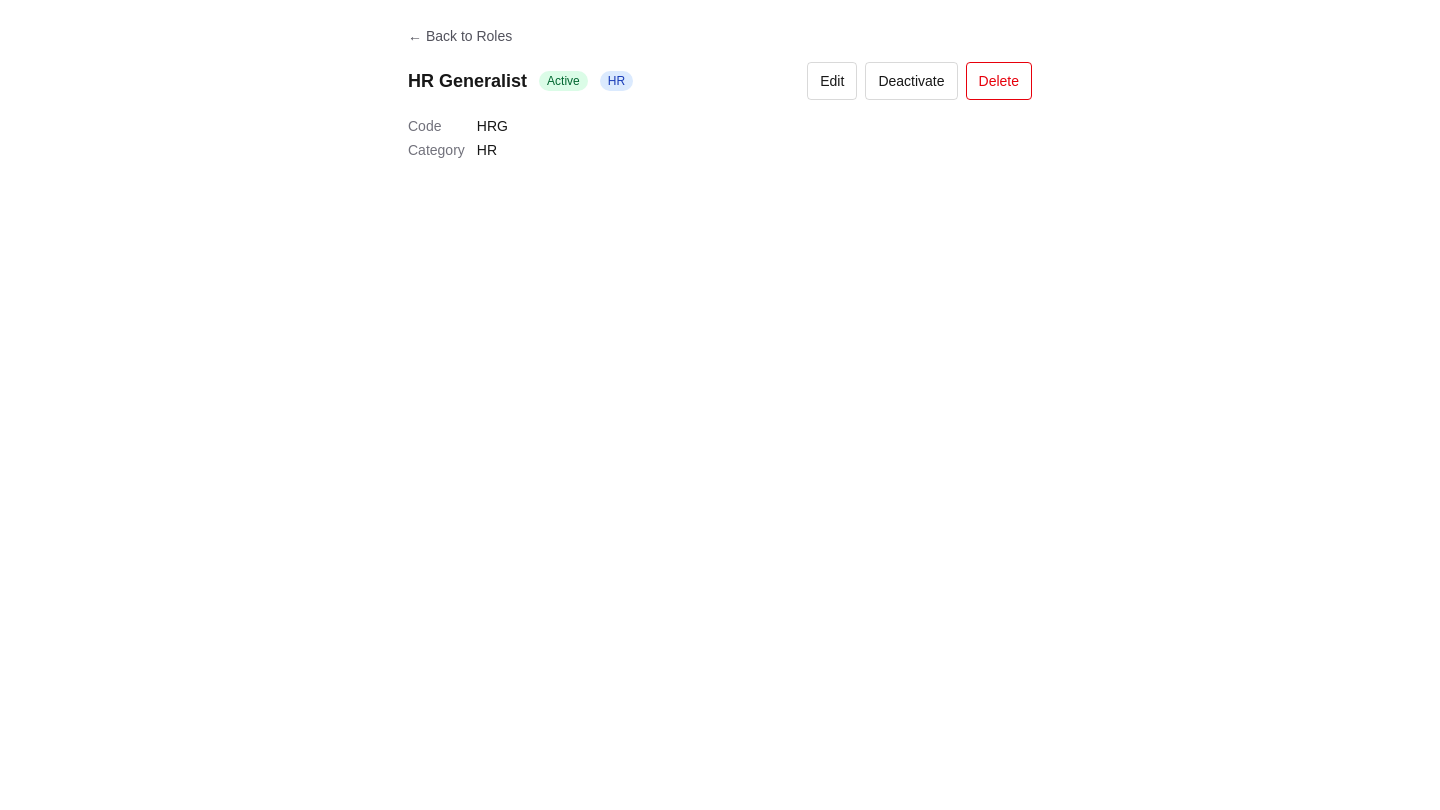
RoleDetailPage › UT11: shows an inline DUPLICATE_CODE error and leaves the role unchanged
expect the heading "HR Generalist" is shown: met, box [408,67,527,95]
Click the button "Edit".
click(832, 81)  # box [807,62,857,100]
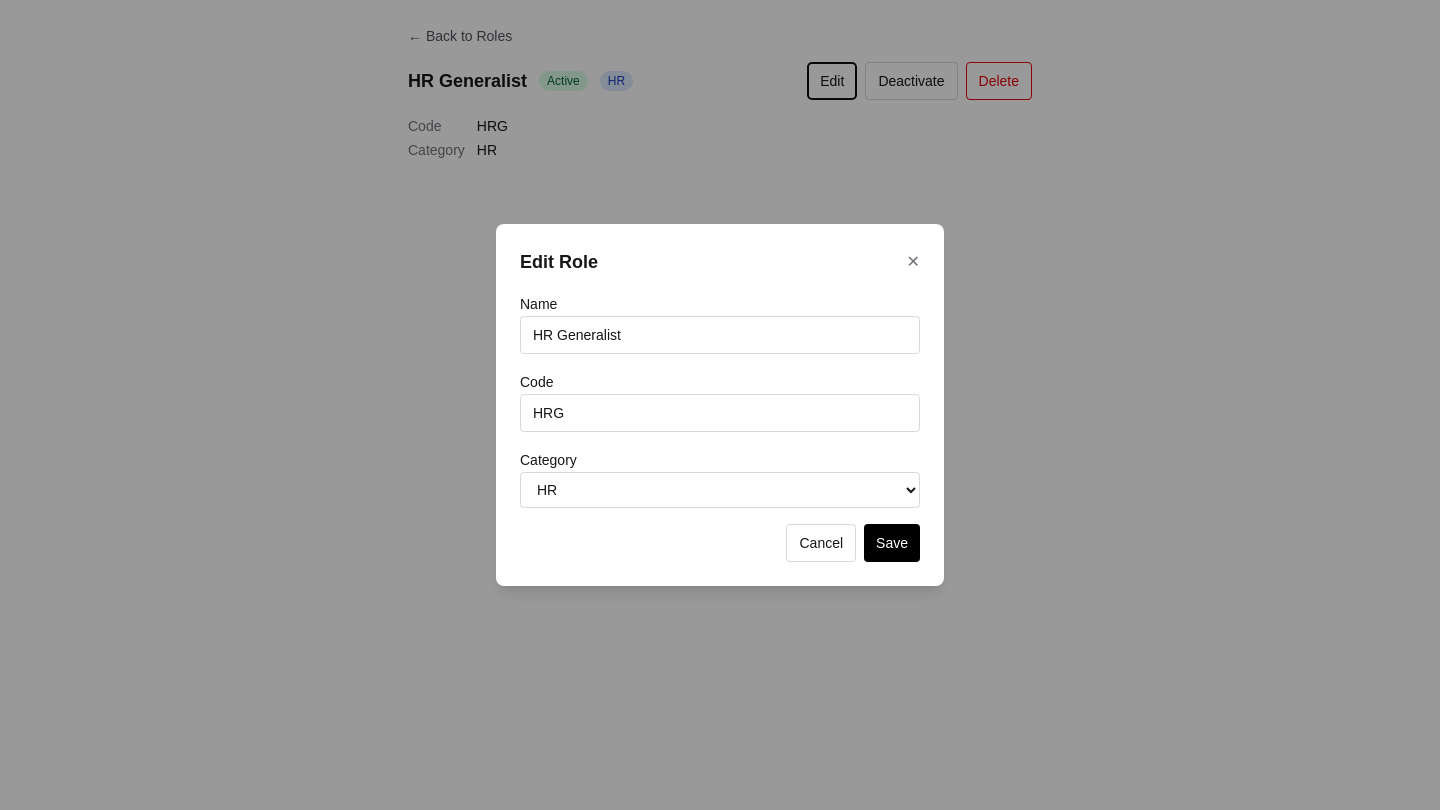
Replace the text in the field labelled "Code" with "TAKEN" at (720, 413), box [520,394,920,432]
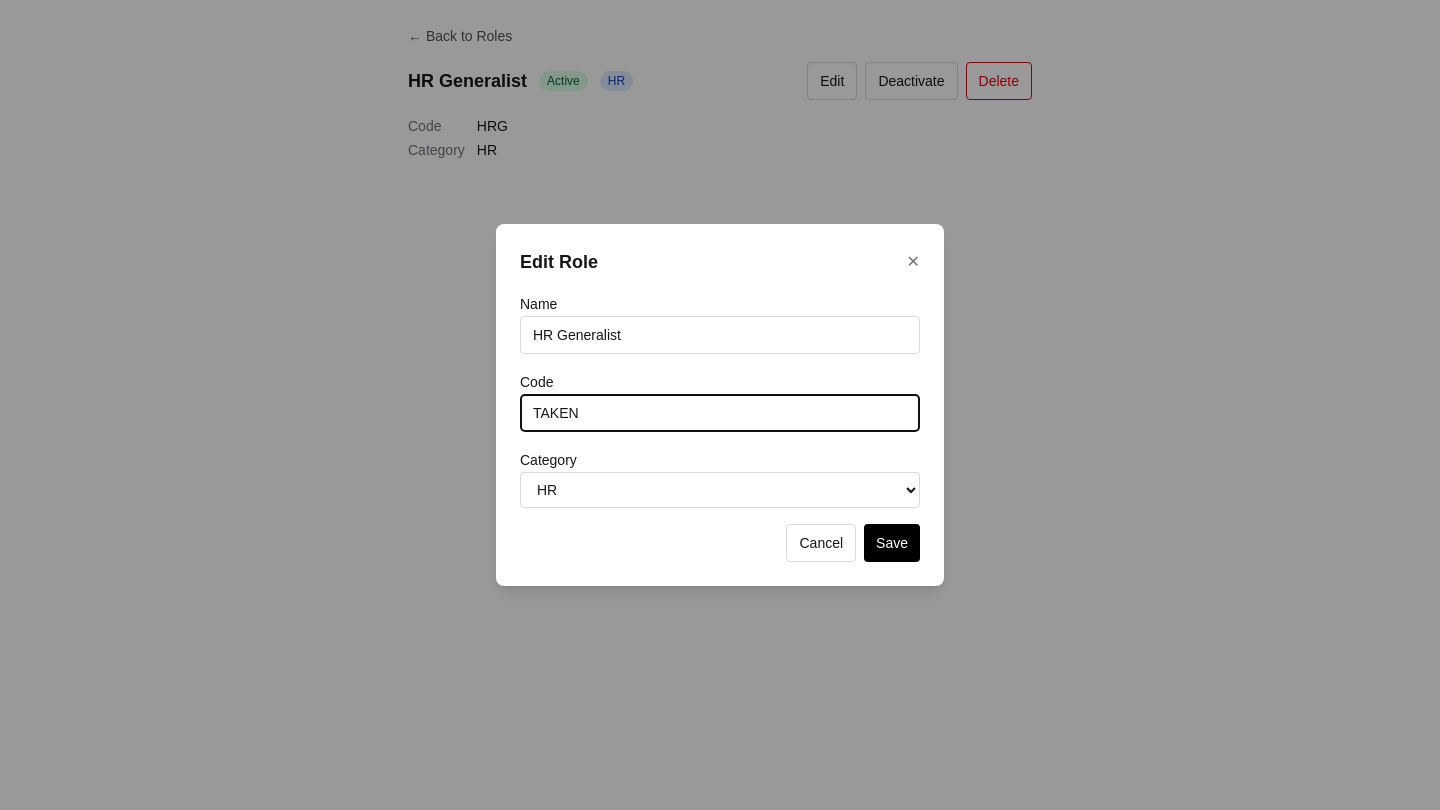
Click the button "Save".
click(892, 543)  # box [864,524,920,562]
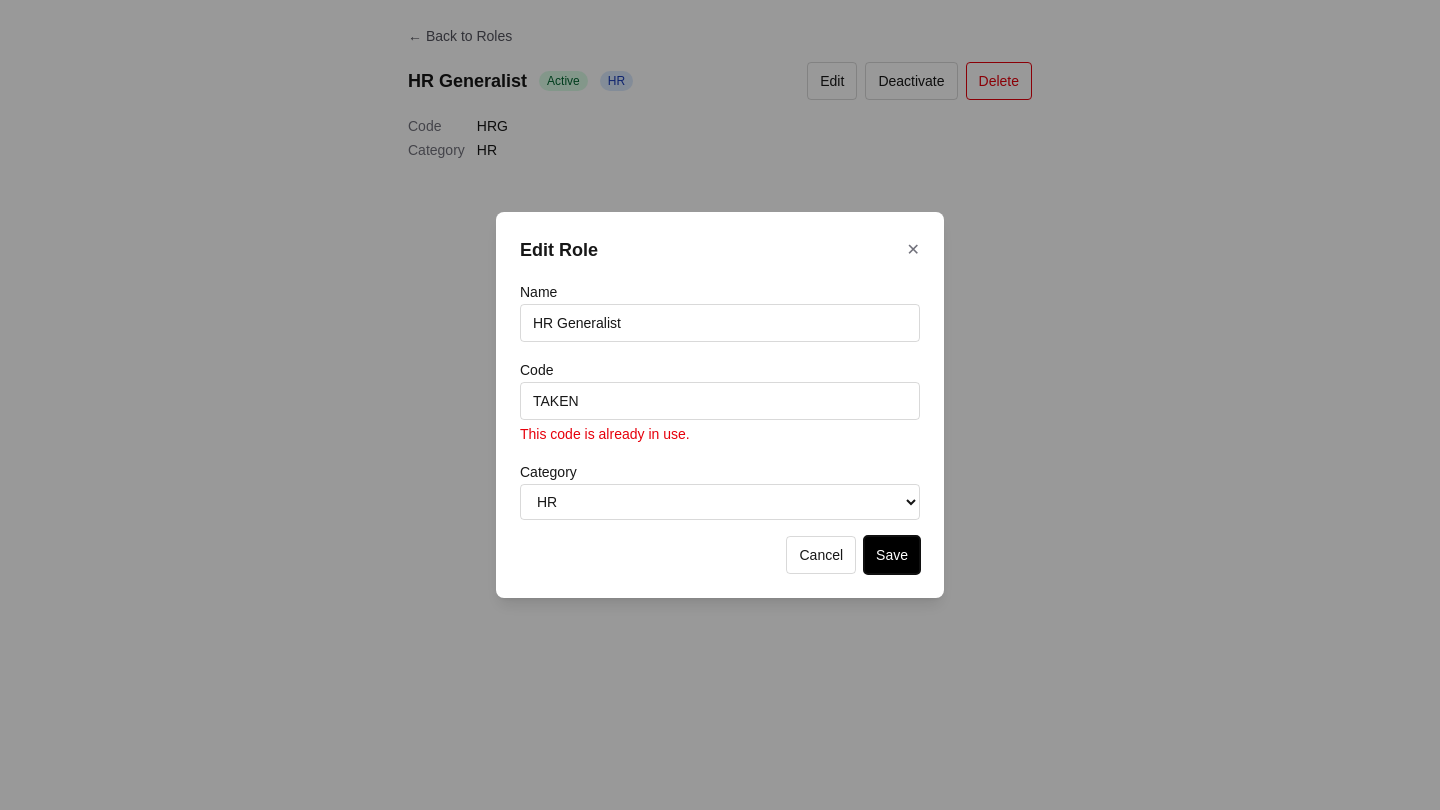
expect the heading "HR Generalist" is shown: met, box [408,67,527,95]
expect the message reads "This code is already in use.": met, box [520,426,690,442]
